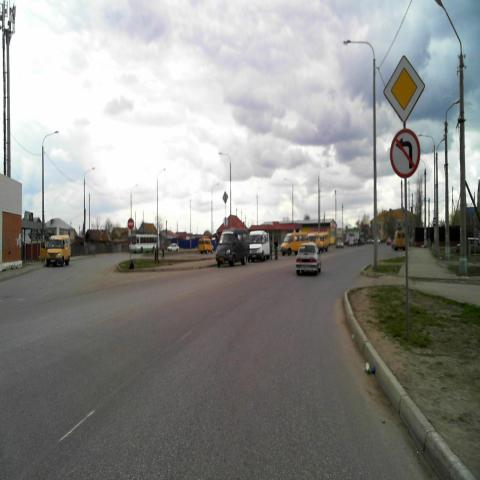3_18_2: (392, 129, 420, 179)
